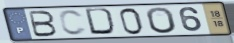0: (118, 7, 146, 35)
6: (178, 6, 205, 33)
B: (27, 10, 59, 38)
C: (58, 9, 90, 37)
D: (83, 7, 119, 36)
O: (145, 6, 179, 35)
